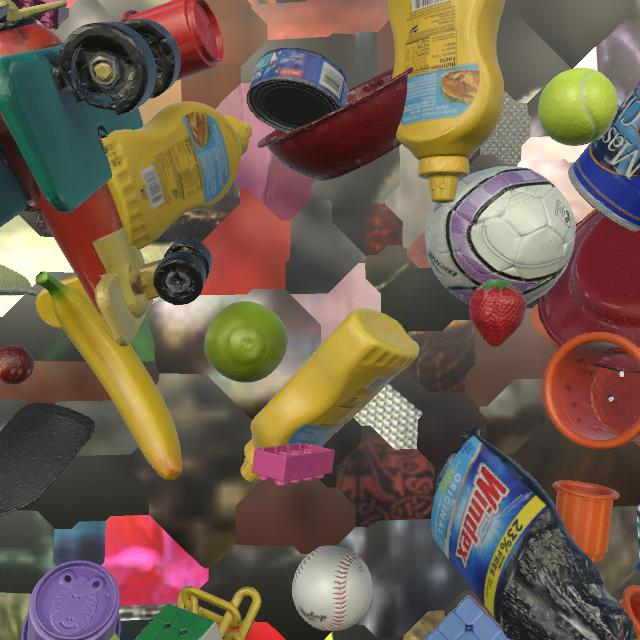ycb_002_master_chef_can: (568, 80, 640, 232)
ycb_006_mustard_bottle: (240, 308, 419, 482), (388, 0, 505, 203), (101, 101, 252, 250)
ycb_007_tuna_fish_can: (246, 47, 349, 133)
ycb_011_banana: (35, 271, 182, 481)
ycb_012_strawberry: (469, 279, 527, 347)
ycb_016_pear: (204, 301, 288, 383)
